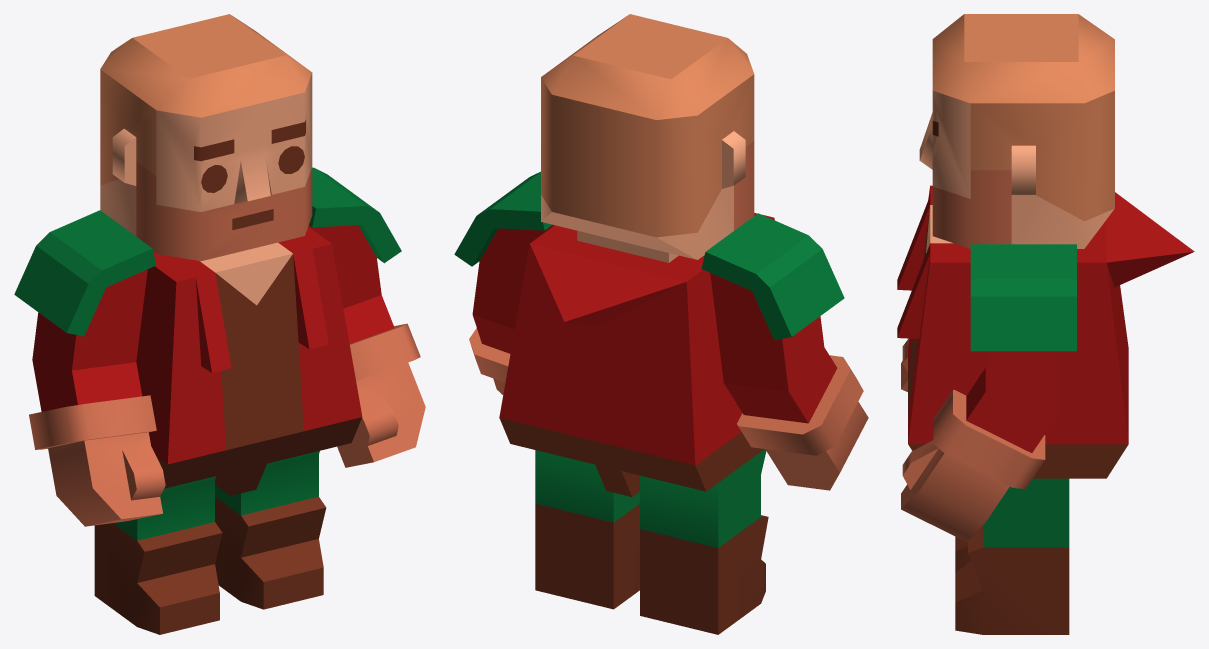
Rendered from Char_Main.fbx.
3 renders of one model, left to right at view 1: azimuth 30°, elevation 25°; view 2: azimuth 150°, elevation 25°; view 3: azimuth 270°, elevation 25°, orthographic.
Parts seen in each view (by area): view 1: mergedBlocks; view 2: mergedBlocks; view 3: mergedBlocks.
Part boxes in pixels (left/top/right/bottom): mergedBlocks: left=14, top=14, right=425, bottom=634; mergedBlocks: left=454, top=14, right=868, bottom=634; mergedBlocks: left=897, top=14, right=1194, bottom=634.
Bounding box in the file's own units: 5.5 × 8.02 × 3.92.
